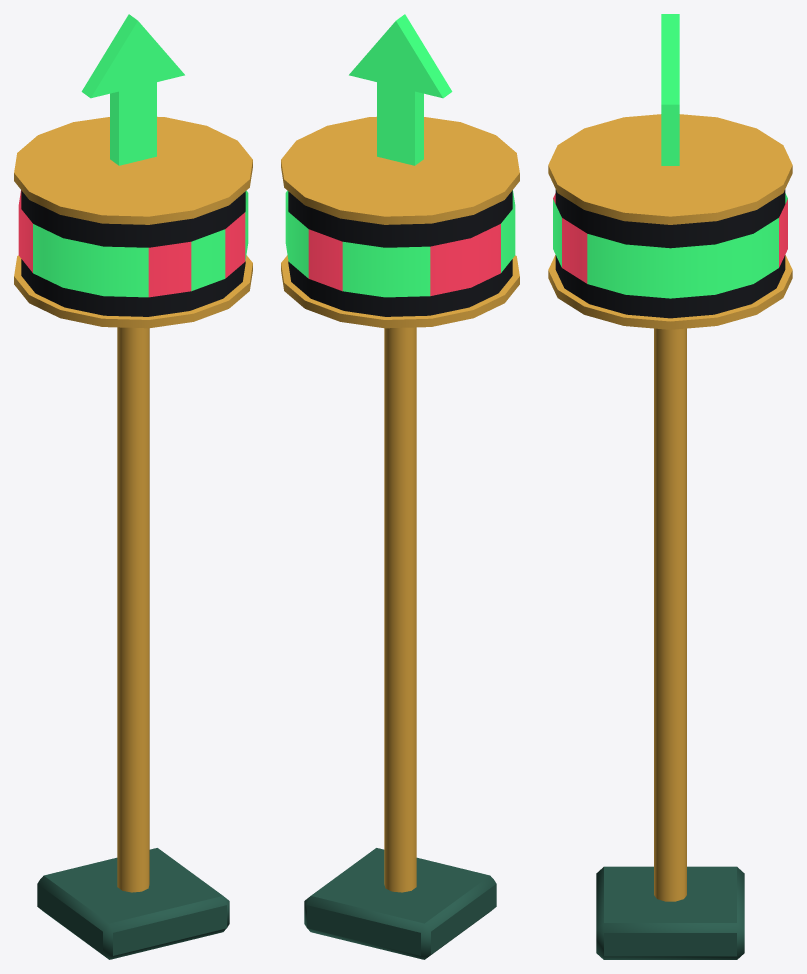
Rendered from ex_ticker.glb.
The picture shows the model from 3 angles, left to right: view 1: azimuth 30°, elevation 25°; view 2: azimuth 150°, elevation 25°; view 3: azimuth 270°, elevation 25°; orthographic projection.
Visible parts, largest first — view 1: anim_spin_ticker, ex_ticker, fx_glow_arrow; view 2: anim_spin_ticker, ex_ticker, fx_glow_arrow; view 3: anim_spin_ticker, ex_ticker, fx_glow_arrow.
Part boxes in pixels (bbox=[...]): anim_spin_ticker: bbox=[14, 116, 252, 328]; ex_ticker: bbox=[37, 327, 229, 959]; fx_glow_arrow: bbox=[81, 14, 184, 165]; anim_spin_ticker: bbox=[281, 116, 519, 328]; ex_ticker: bbox=[304, 327, 496, 959]; fx_glow_arrow: bbox=[349, 14, 452, 165]; anim_spin_ticker: bbox=[548, 114, 792, 329]; ex_ticker: bbox=[596, 328, 744, 959]; fx_glow_arrow: bbox=[661, 14, 679, 165].
Size of the model in its own units: 1.32 by 5.47 by 1.32.
2 materials, 2 textured.
